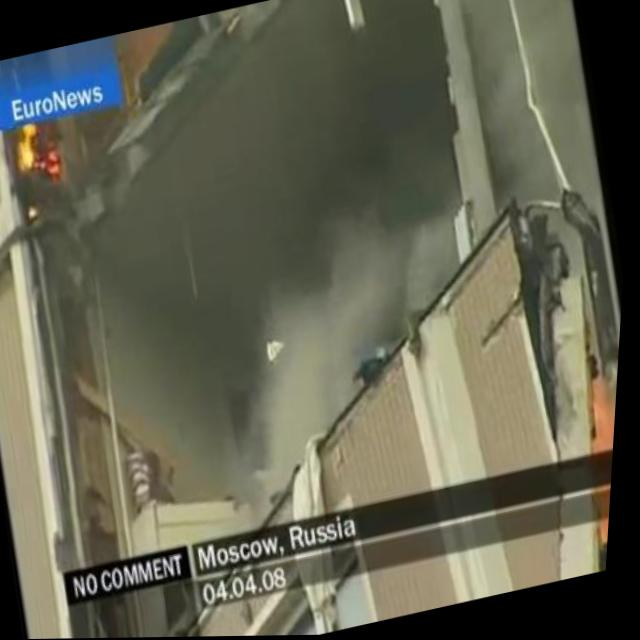fire: (12, 114, 71, 188)
